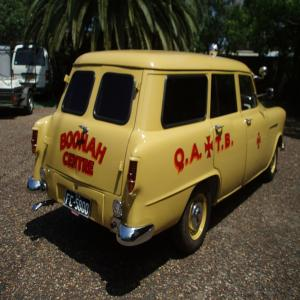Vehicle-registration-plate: (64, 187, 90, 219), (24, 75, 36, 84)
